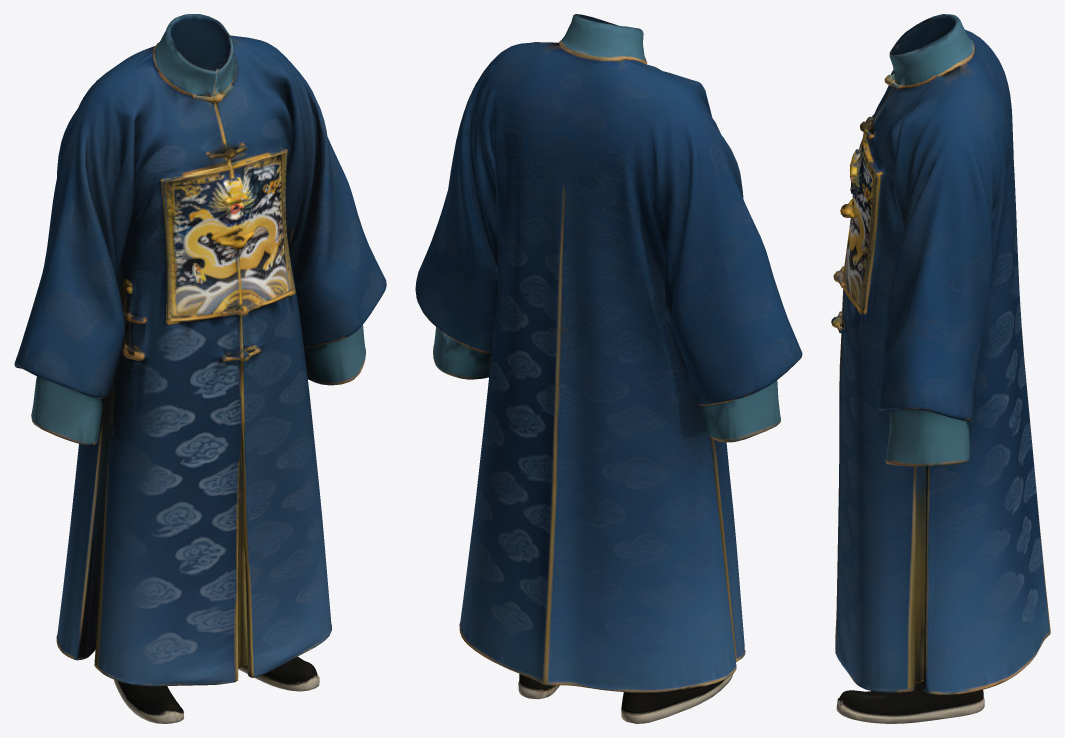
File: shiqing.glb
3 views of the same model, side by side, from view 1: azimuth 30°, elevation 25°; view 2: azimuth 150°, elevation 25°; view 3: azimuth 270°, elevation 25° (orthographic). The views are drawn at different scales.
Visible parts, largest first — view 1: node_0; view 2: node_0; view 3: node_0.
Part boxes in pixels (box(x1,y1,x2,y2)): node_0: box(14, 14, 386, 723); node_0: box(415, 14, 802, 723); node_0: box(831, 14, 1050, 723).
Bounding box in the file's own units: 0.6633 × 1.15 × 0.3438.
Materials: 1 (1 with a texture image).
